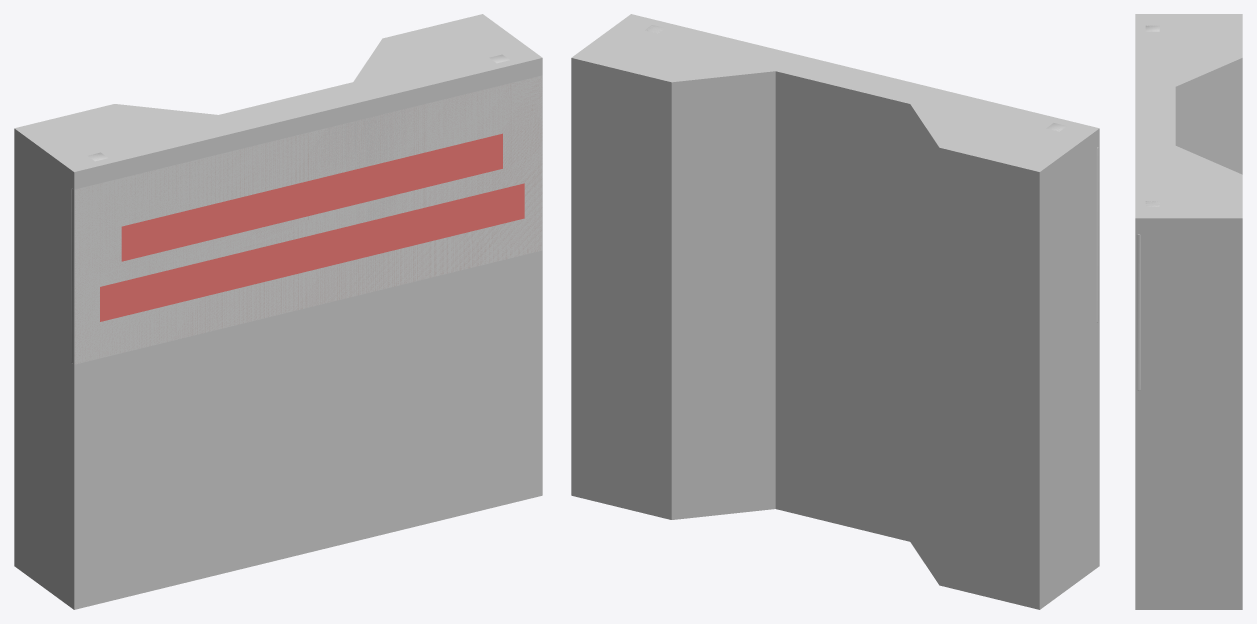
The model's file is si_res_welcome_sign.dae.
The picture shows the model from 3 angles, left to right: view 1: azimuth 30°, elevation 25°; view 2: azimuth 150°, elevation 25°; view 3: azimuth 270°, elevation 25°; orthographic projection. The views are drawn at different scales.
Parts seen in each view (by area): view 1: Colmesh-1, si_res_welcome_sign_a20, si_res_welcome_sign_a60, si_res_welcome_sign_a300; view 2: Colmesh-1, si_res_welcome_sign_a300; view 3: Colmesh-1, si_res_welcome_sign_a300.
Boxes of the visible parts, x1,y1,x2,y2 form: Colmesh-1: (14, 14, 542, 609); si_res_welcome_sign_a20: (74, 76, 542, 364); si_res_welcome_sign_a60: (74, 75, 542, 364); si_res_welcome_sign_a300: (71, 54, 542, 364); Colmesh-1: (571, 14, 1099, 609); si_res_welcome_sign_a300: (645, 25, 1098, 322); Colmesh-1: (1135, 14, 1242, 609); si_res_welcome_sign_a300: (1136, 25, 1159, 390).
Bounding box in the file's own units: 1.4 × 0.3299 × 1.25.
